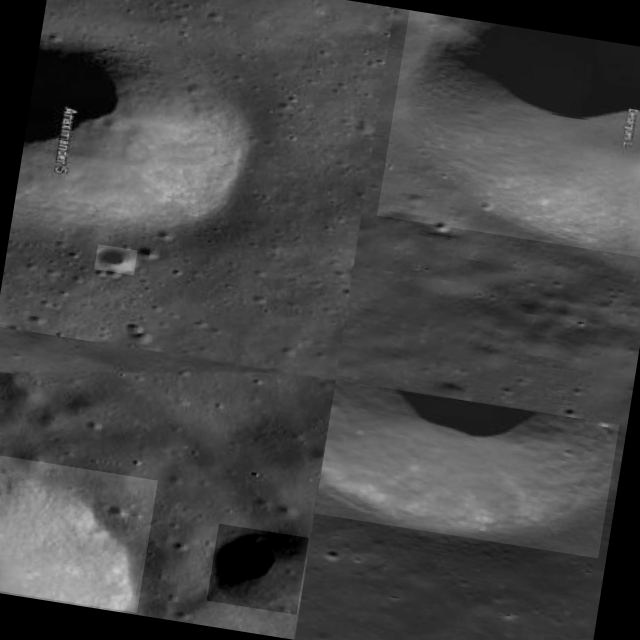crater: (377, 10, 640, 259), (10, 34, 256, 262), (314, 380, 620, 559), (0, 452, 157, 613), (206, 524, 308, 616), (94, 244, 138, 276)
